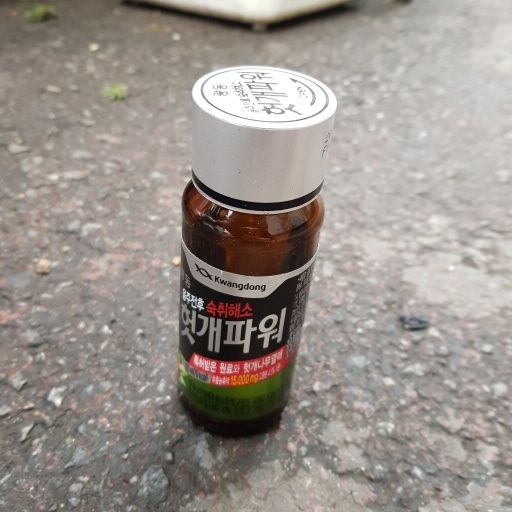Glass_3: (170, 66, 340, 443)
